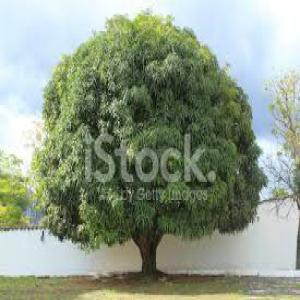Tree: (32, 6, 266, 275)
